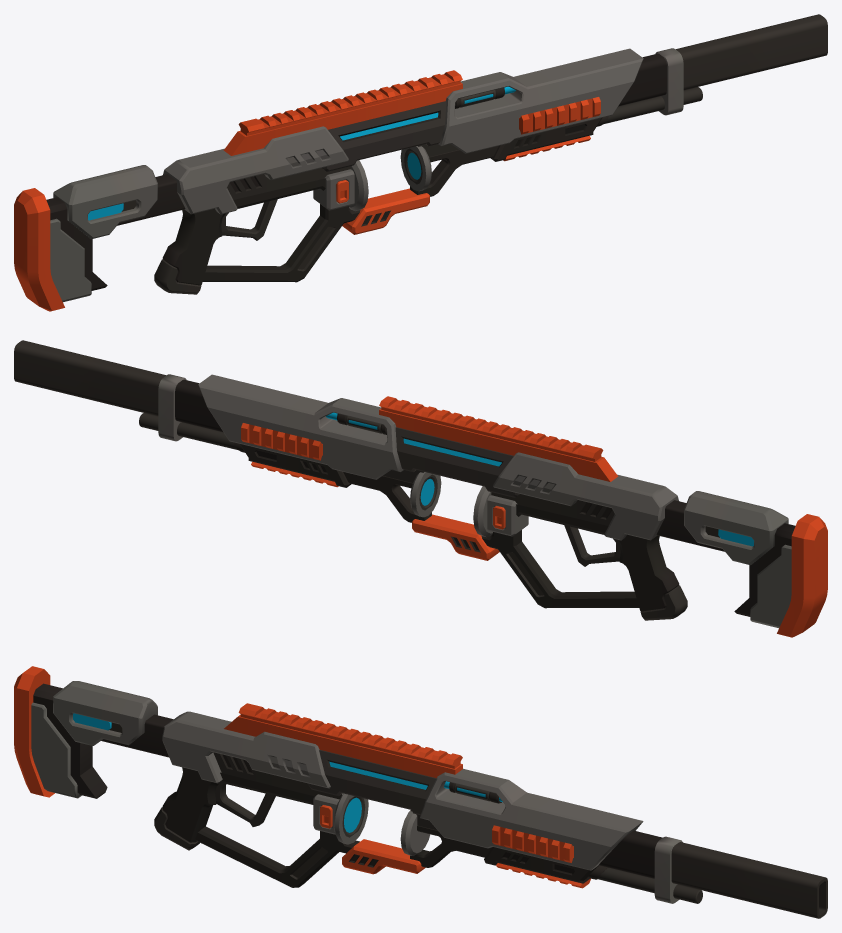
The picture shows the model from 3 angles, top to bottom: view 1: azimuth 30°, elevation 25°; view 2: azimuth 150°, elevation 25°; view 3: azimuth 330°, elevation 25°; orthographic projection.
Visible parts, largest first — view 1: SR1_Base; view 2: SR1_Base; view 3: SR1_Base.
Part boxes in pixels (bbox=[...]): SR1_Base: bbox=[14, 14, 827, 311]; SR1_Base: bbox=[14, 340, 827, 637]; SR1_Base: bbox=[14, 666, 827, 918].
Size of the model in its own units: 115 by 23.05 by 7.75.
